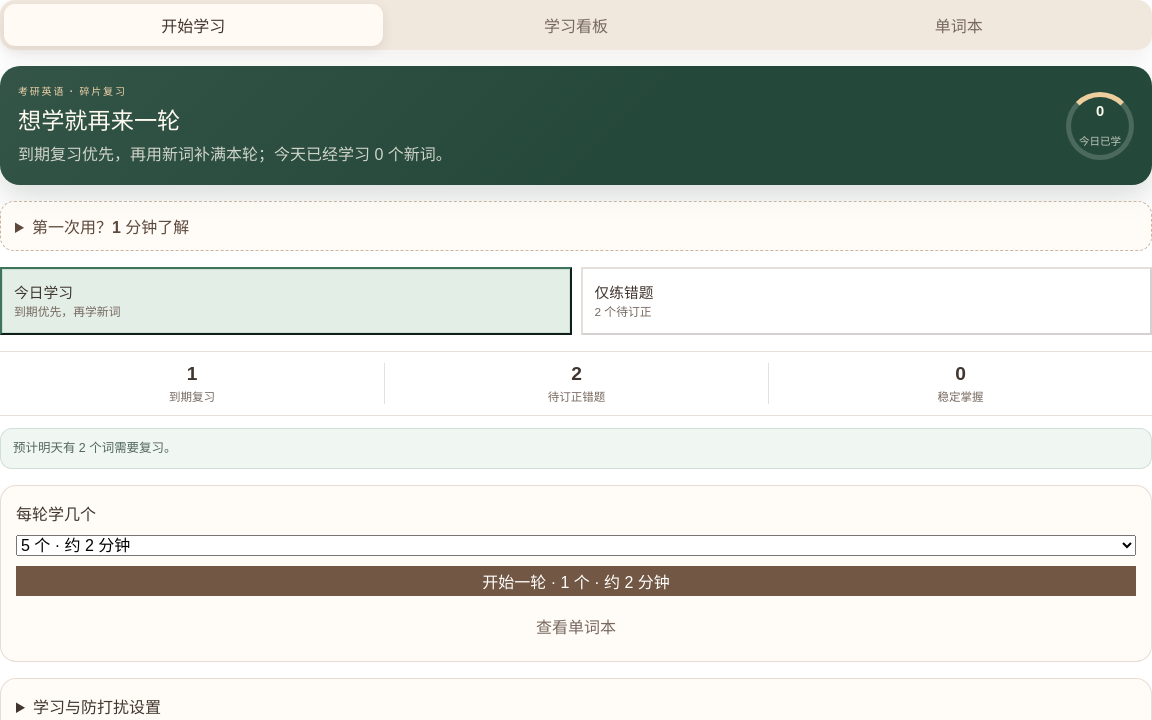
Test: learning micro-session › starts an independent wrong-only session without changing the daily mode
Step 1. Click the button "仅练错题 2 个待订正" → point(624, 293), box left=580, top=267, right=1151, bottom=335
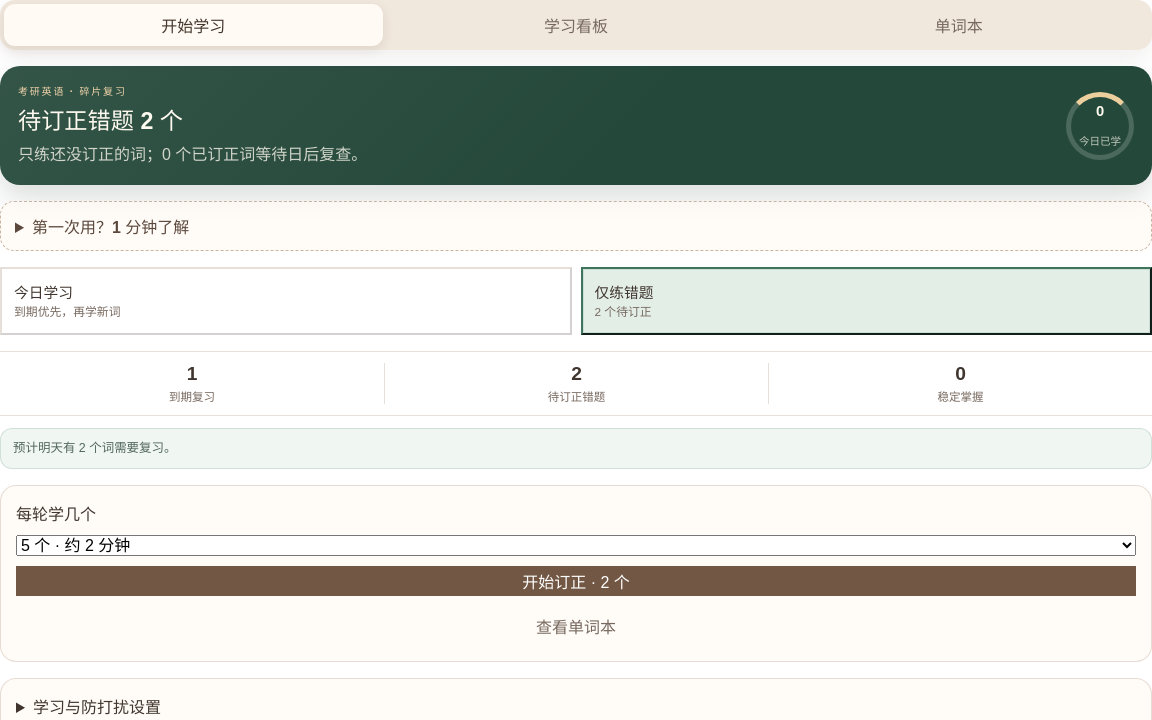
Now the text "待订正错题 2 个" is shown, box left=18, top=108, right=183, bottom=134
Now the text "只练还没订正的词" is shown, box left=18, top=146, right=367, bottom=163
Step 2. Click the button "开始订正 · 2 个" → point(576, 581), box left=16, top=566, right=1136, bottom=596
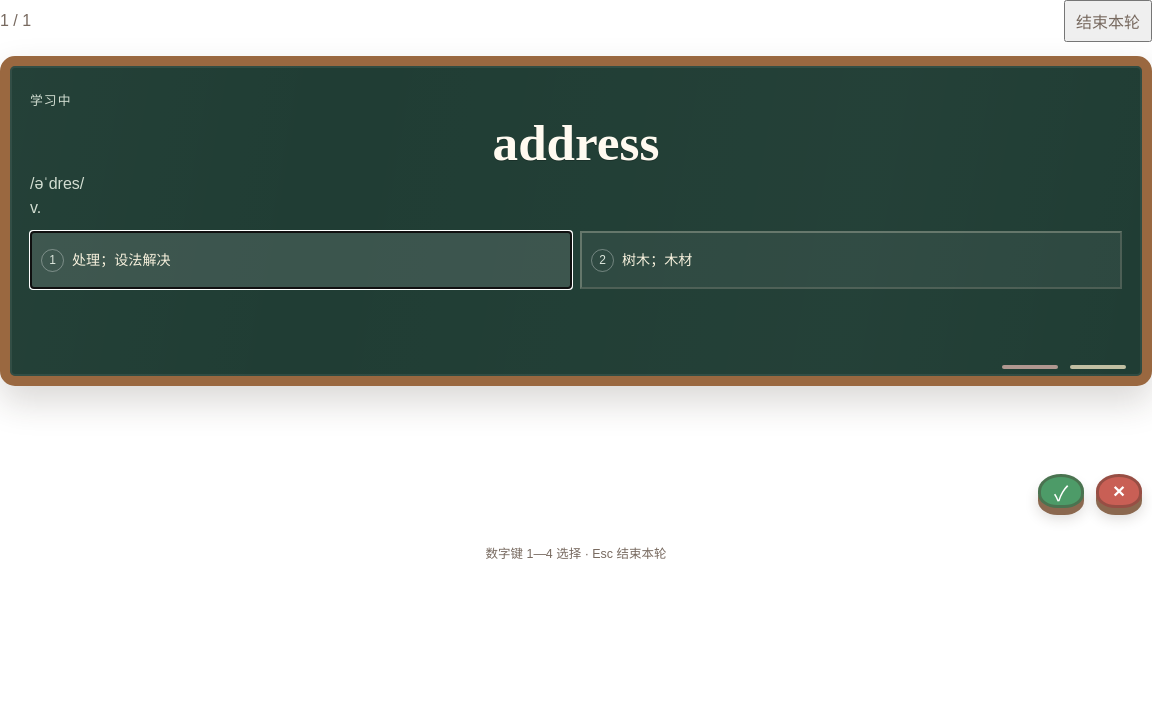
Now the text "address" is shown, box left=492, top=114, right=659, bottom=171
